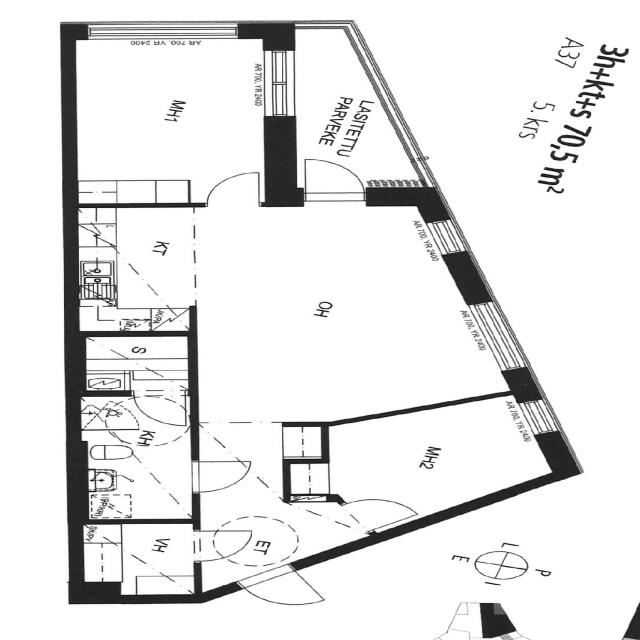door: (223, 558, 309, 606), (296, 154, 372, 205), (198, 166, 270, 209), (195, 522, 267, 564), (186, 457, 253, 495), (132, 394, 190, 428), (442, 601, 486, 637)
window: (255, 45, 307, 122), (81, 21, 247, 45), (422, 213, 469, 261), (534, 398, 570, 437)
zone: (207, 207, 463, 435), (71, 38, 272, 206), (308, 411, 546, 509), (75, 203, 200, 331), (78, 394, 198, 523), (80, 522, 200, 597), (78, 334, 194, 395)
